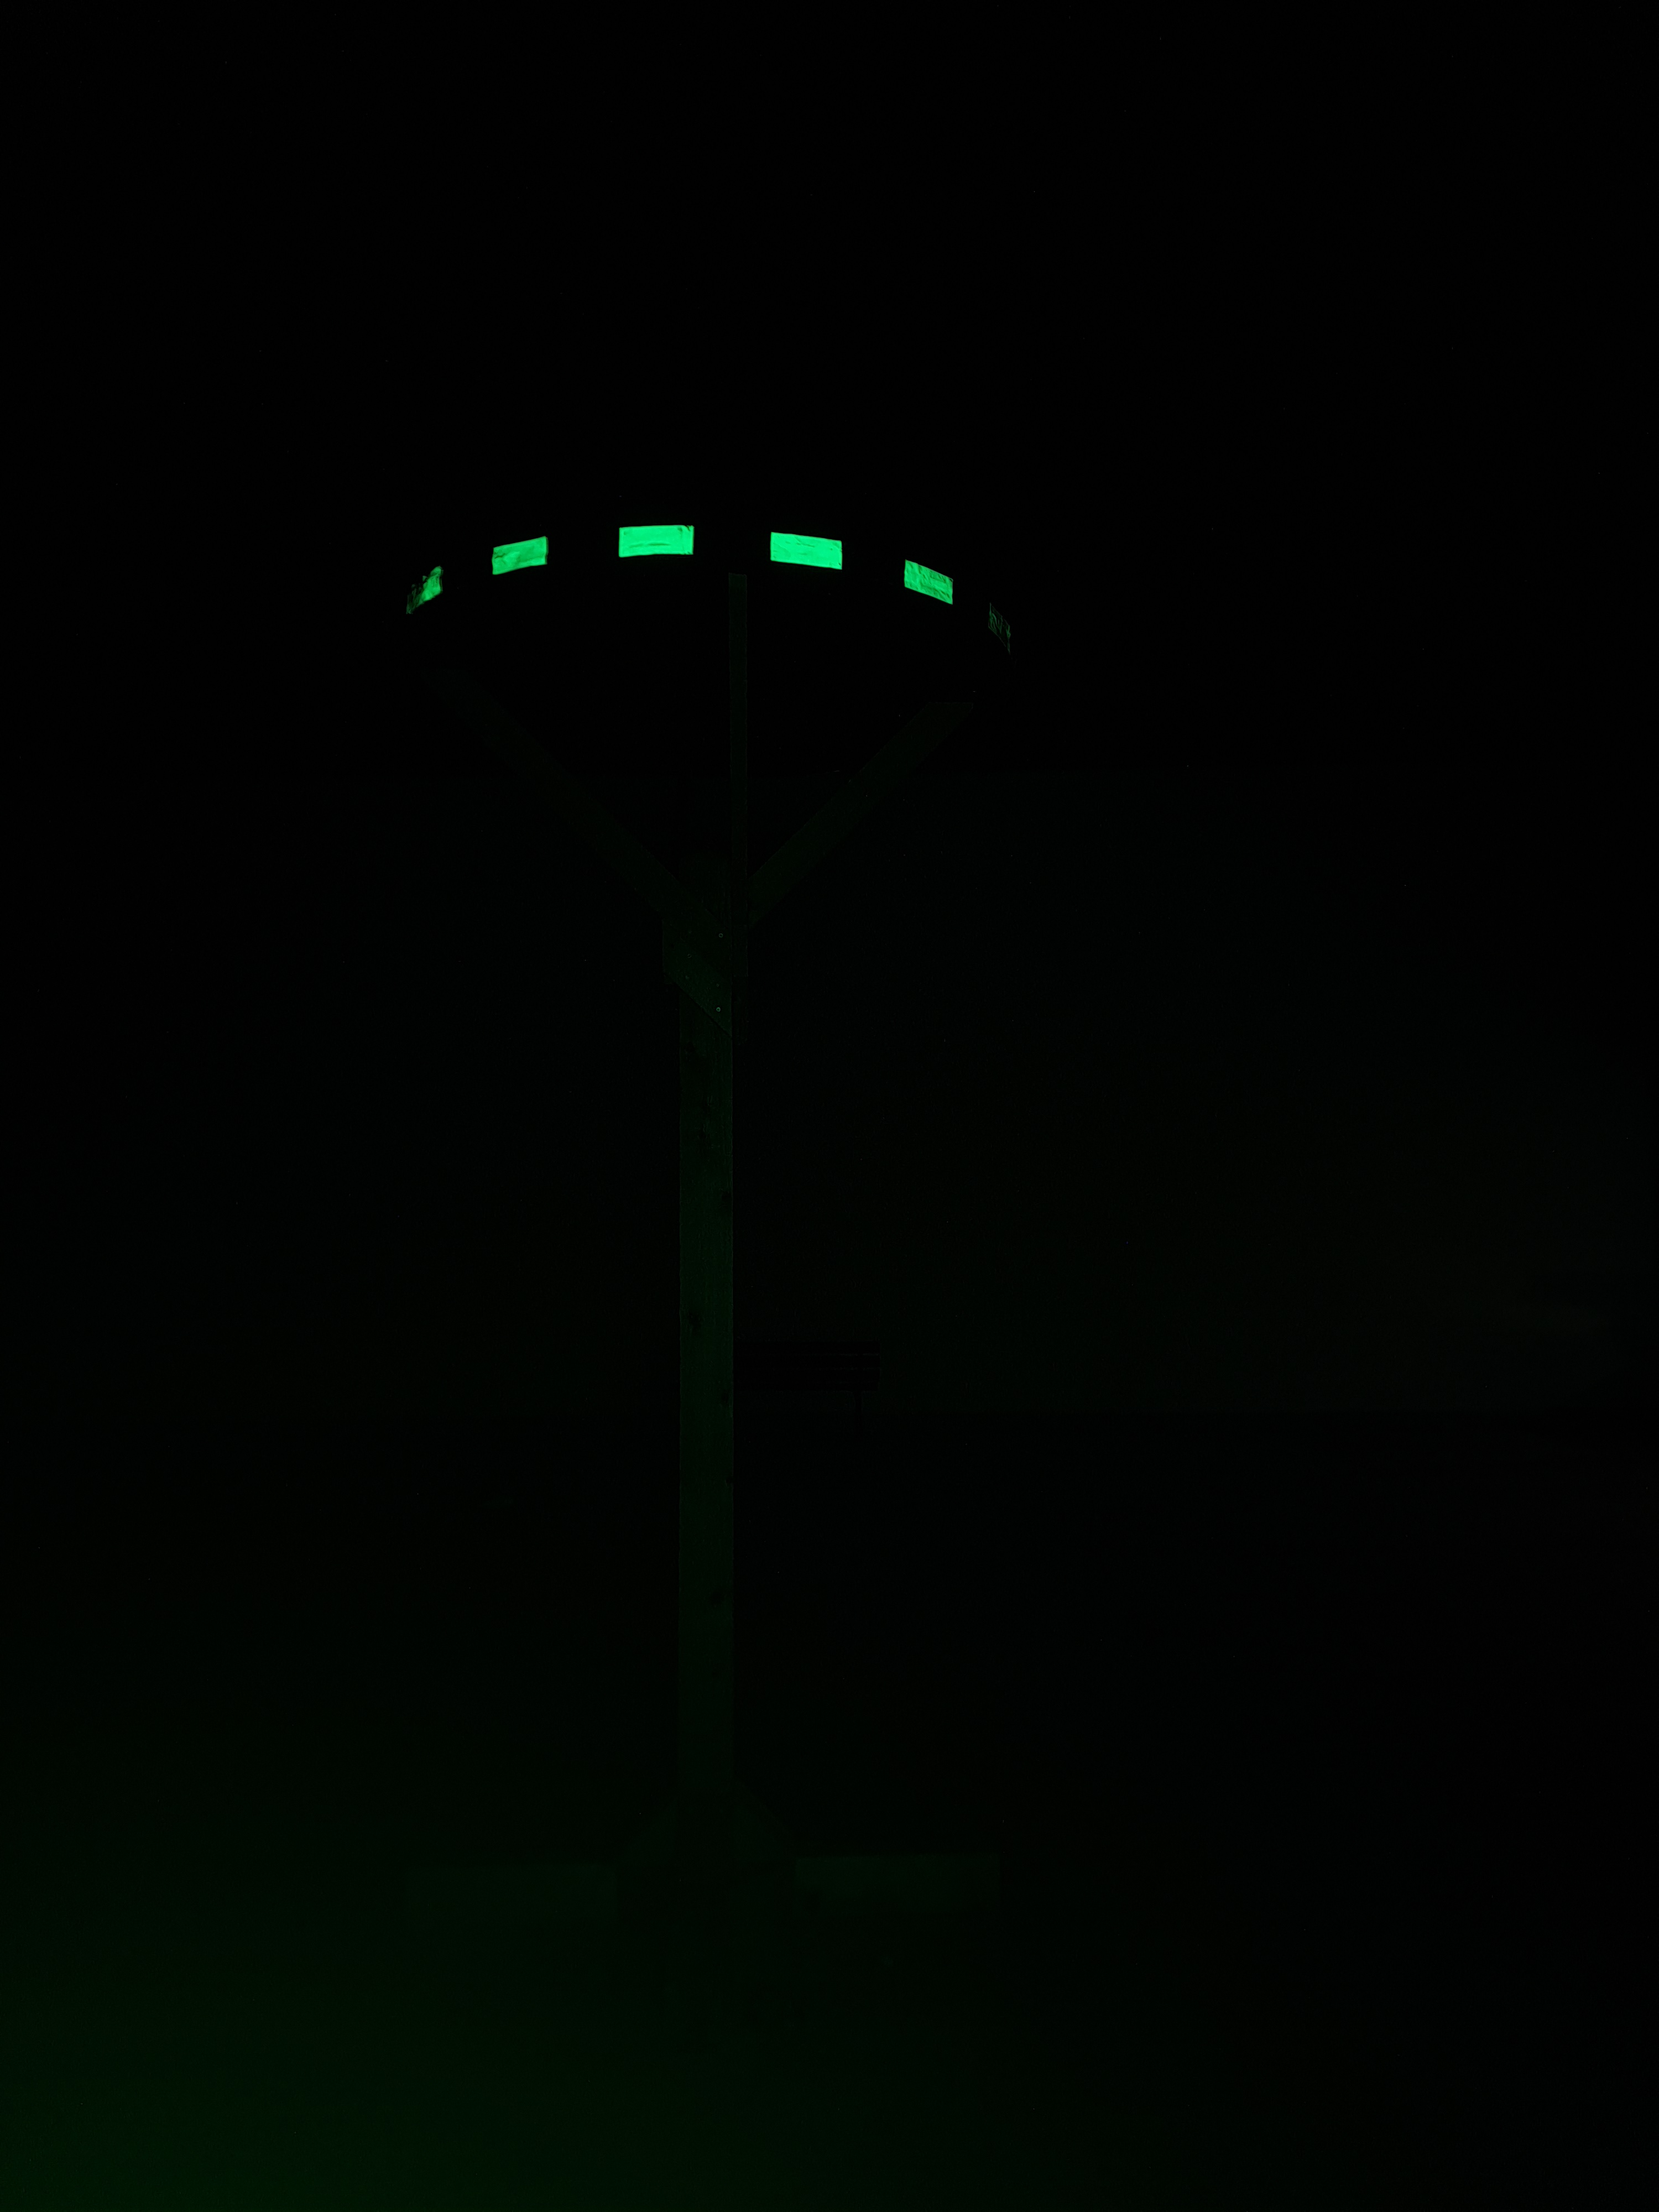hoop: (406, 524, 1016, 655)
